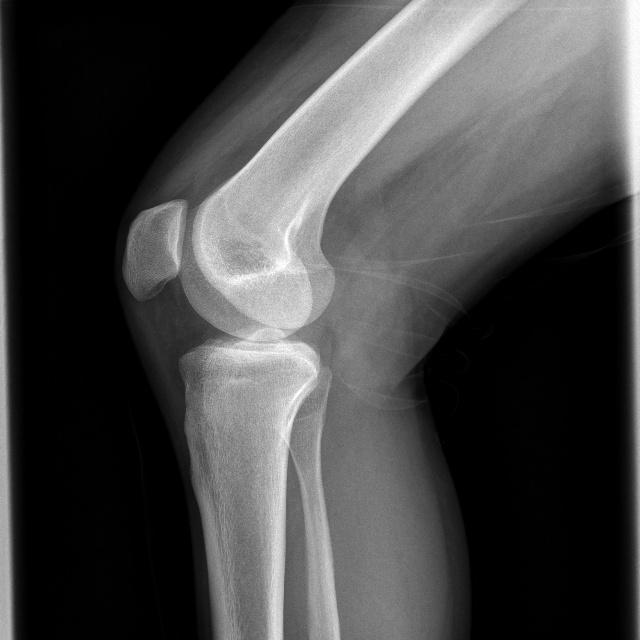Knee: (119, 193, 338, 408)
